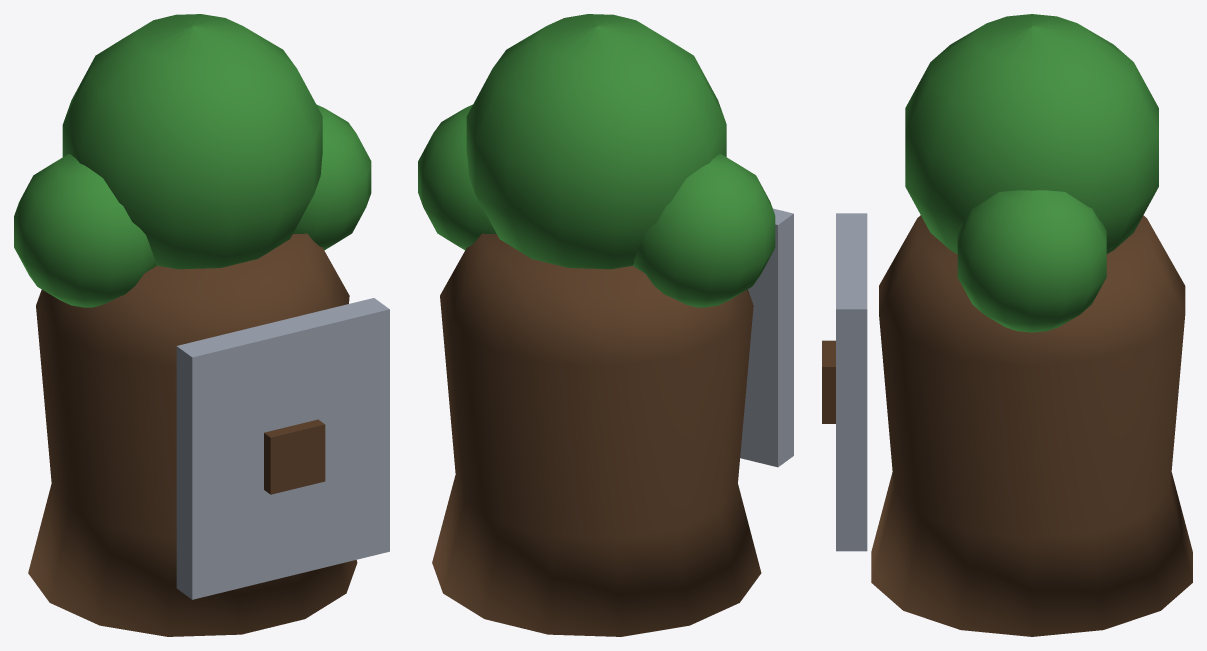
The model's file is ironbark_warden.obj.
The picture shows the model from 3 angles, left to right: view 1: azimuth 30°, elevation 25°; view 2: azimuth 150°, elevation 25°; view 3: azimuth 270°, elevation 25°; orthographic projection.
Bounding box in the file's own units: 0.99 × 1.52 × 0.9445.
